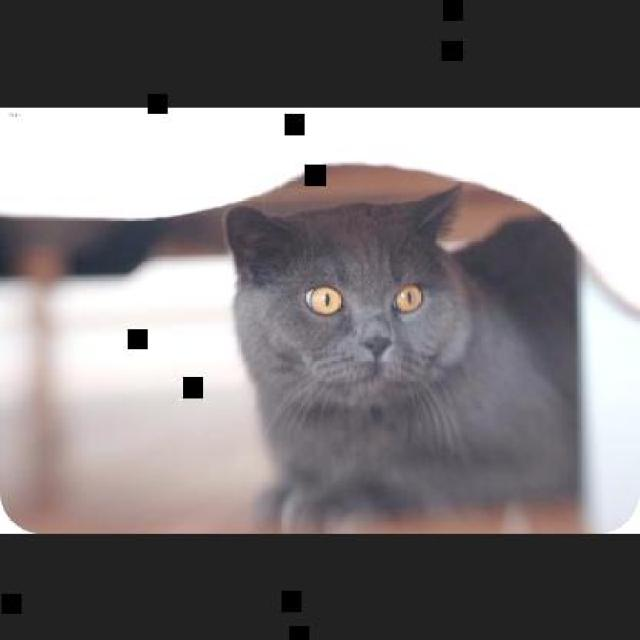unauthorized: (220, 182, 580, 530)
